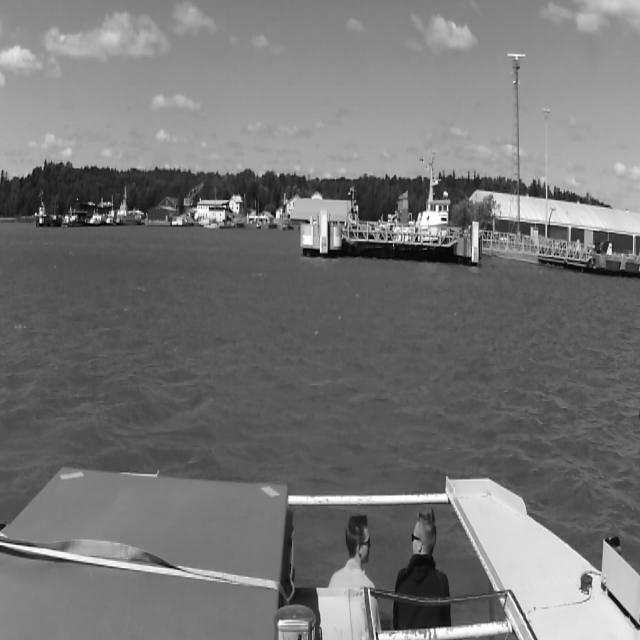ship: (372, 192, 456, 239), (32, 203, 62, 225), (115, 202, 139, 225), (82, 213, 100, 227)
